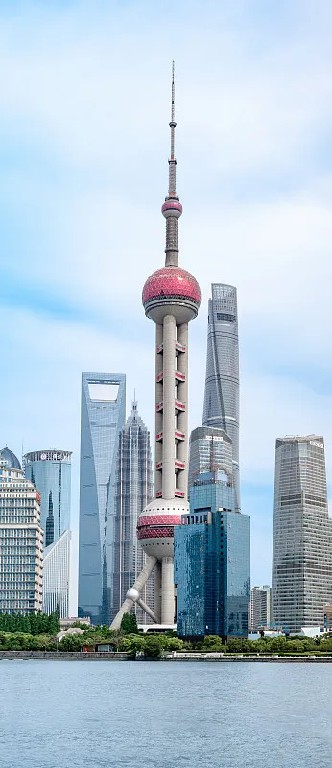Oriental: (109, 61, 201, 630)
